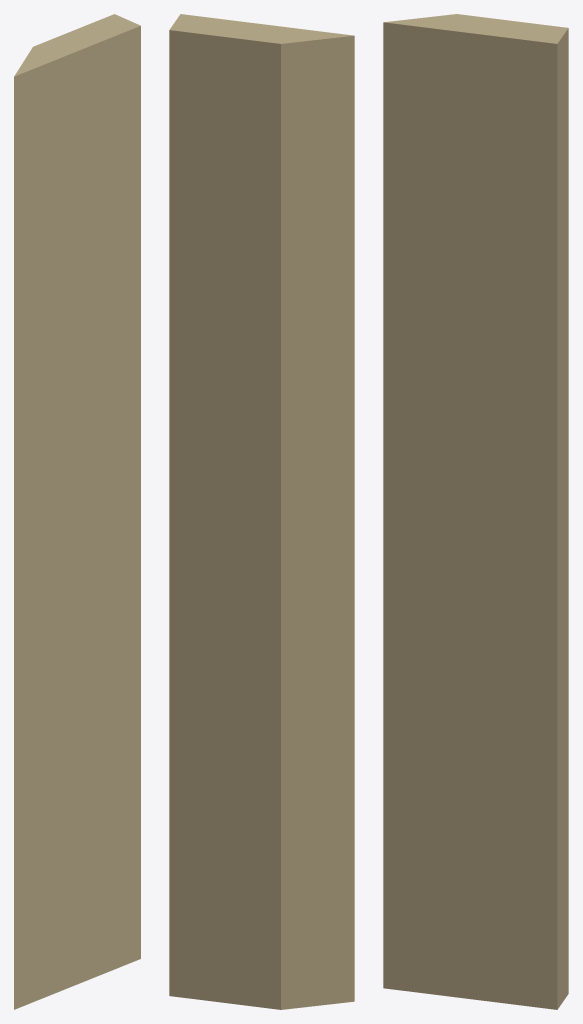
3 views of the same model, side by side, from view 1: azimuth 30°, elevation 25°; view 2: azimuth 150°, elevation 25°; view 3: azimuth 330°, elevation 25° (orthographic). The views are drawn at different scales.
Parts seen in each view (by area): view 1: GF-W031; view 2: GF-W031; view 3: GF-W031.
Part boxes in pixels (bbox=[...]): GF-W031: bbox=[14, 14, 140, 1009]; GF-W031: bbox=[169, 14, 354, 1009]; GF-W031: bbox=[383, 14, 568, 1009].
Bounding box in the file's own units: 0.4005 × 2.42 × 0.1842.
